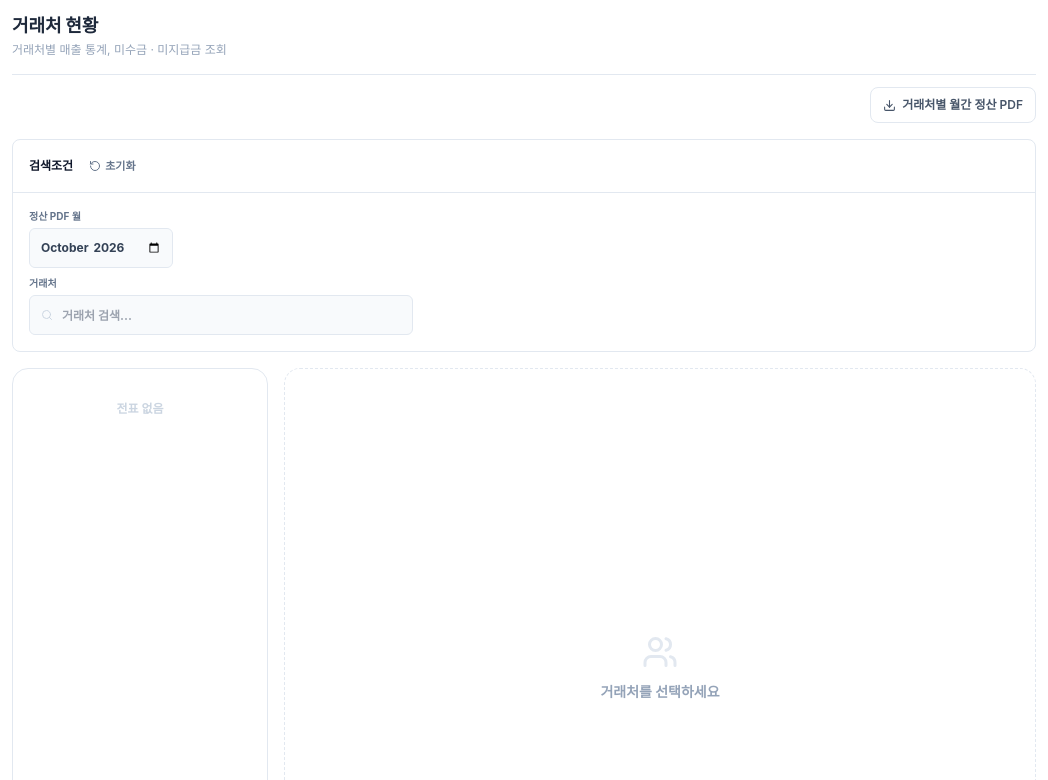
Test: 거래처 현황은 PDF행동을 위에 두고 월과 검색을 조회 패널에 둔다
Type "없는거래처" into the field with placeholder "거래처 검색..." at (221, 315), box [29, 295, 413, 335]
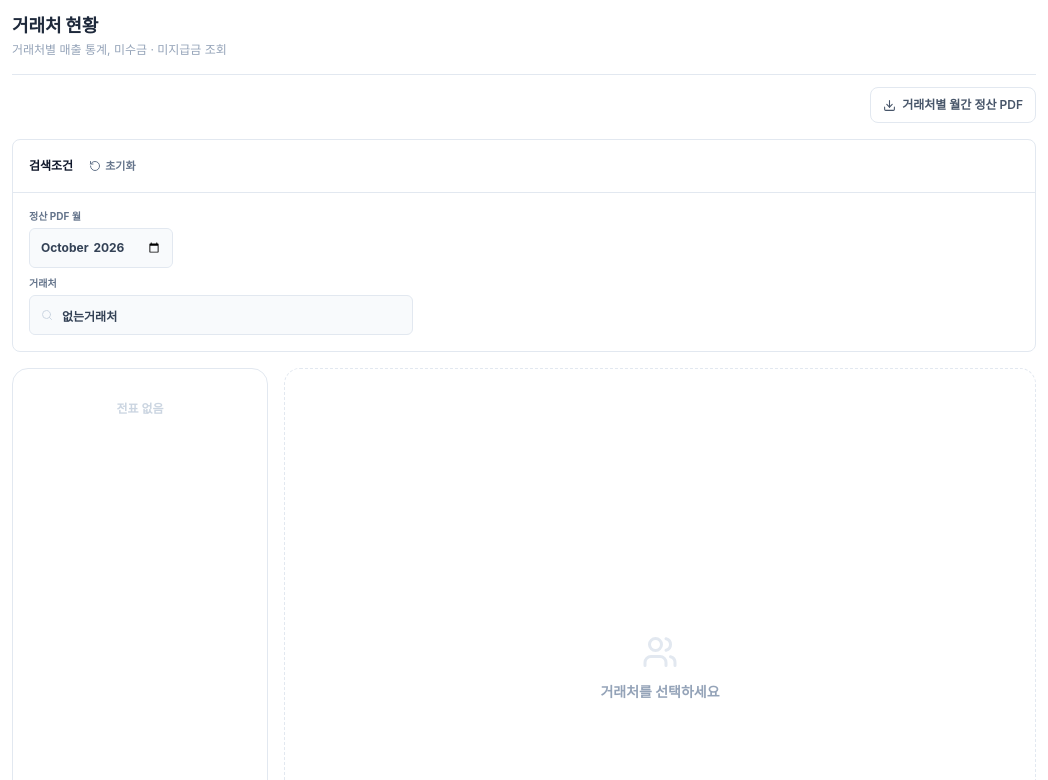
Click the button "초기화" at (112, 166), box [81, 150, 144, 182]
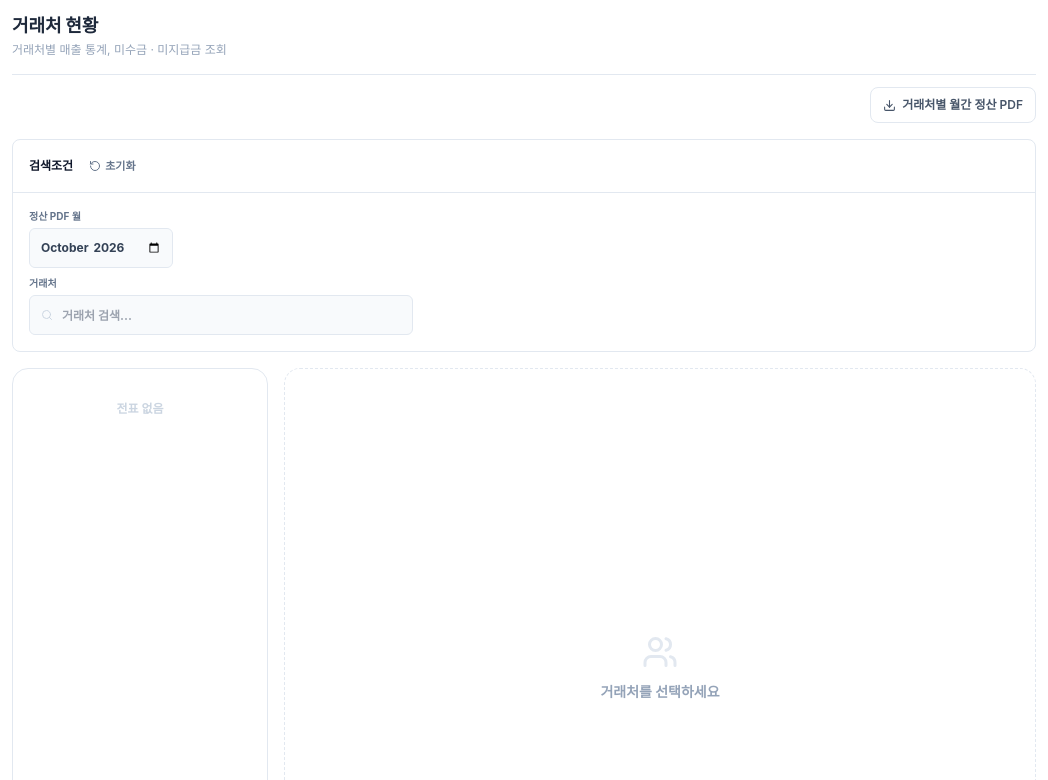
expect the field with placeholder "거래처 검색..." is empty: met, box [29, 295, 413, 335]
